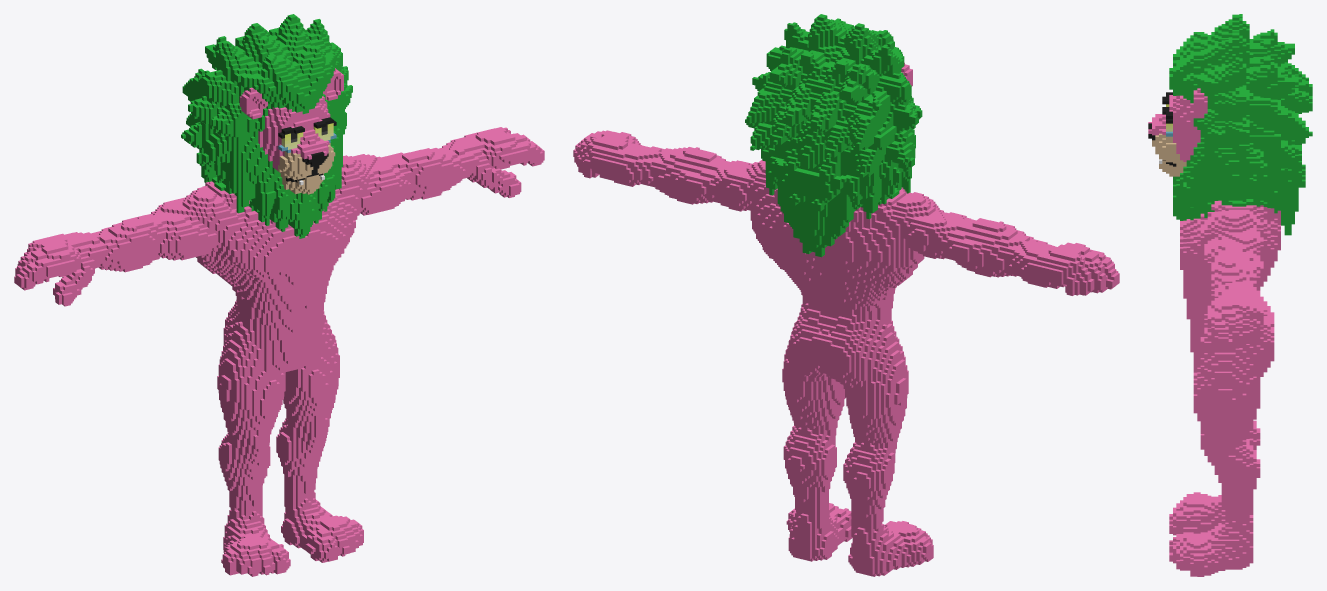
Rendered from 376-DrWVLBEg.glb.
3 views of the same model, side by side, from view 1: azimuth 30°, elevation 25°; view 2: azimuth 150°, elevation 25°; view 3: azimuth 270°, elevation 25° (orthographic). The views are drawn at different scales.
Visible parts, largest first — view 1: standard; view 2: standard; view 3: standard.
Part boxes in pixels (left/top/right/bottom): standard: left=14, top=14, right=544, bottom=576; standard: left=573, top=14, right=1119, bottom=576; standard: left=1148, top=14, right=1312, bottom=576.
Bounding box in the file's own units: 17.2 × 16.5 × 4.7.
Materials: 4 (4 with a texture image).
